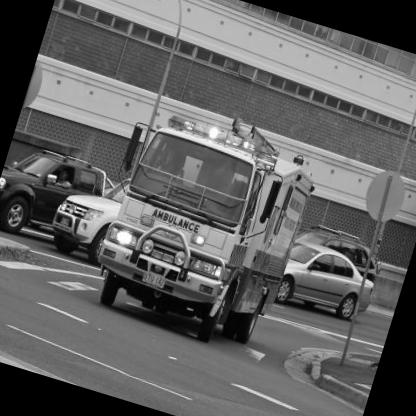ambulance: (72, 81, 337, 371)
car: (276, 232, 390, 342)
